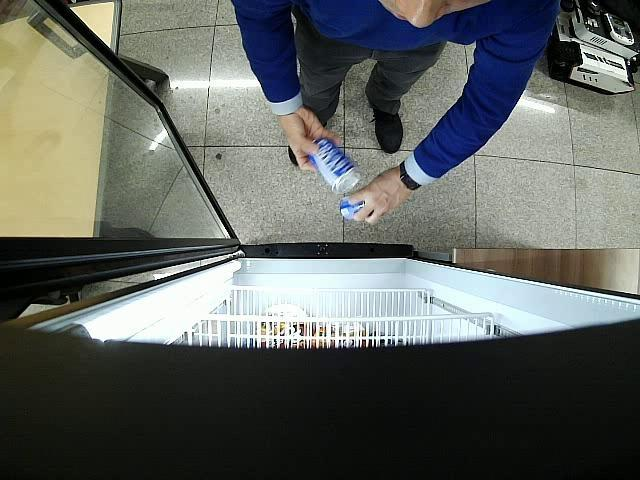13_pocariSweat: (308, 137, 361, 194), (340, 195, 363, 220)
